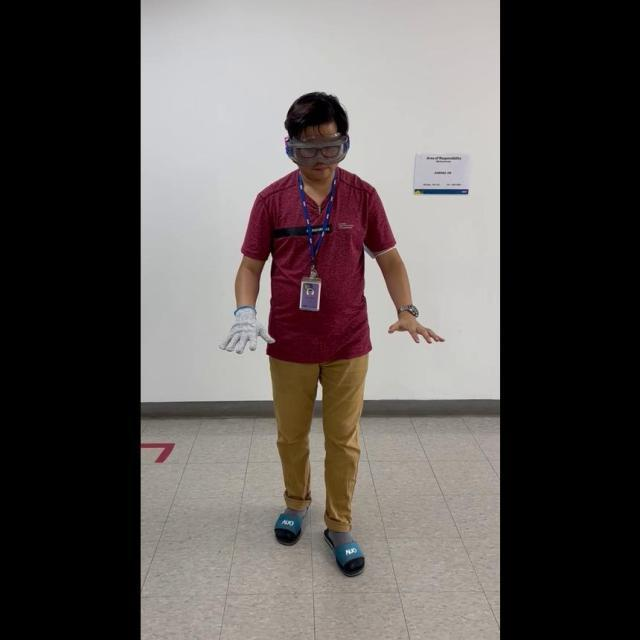bare_hand: (385, 305, 444, 347)
gloved_hand: (218, 302, 273, 356)
